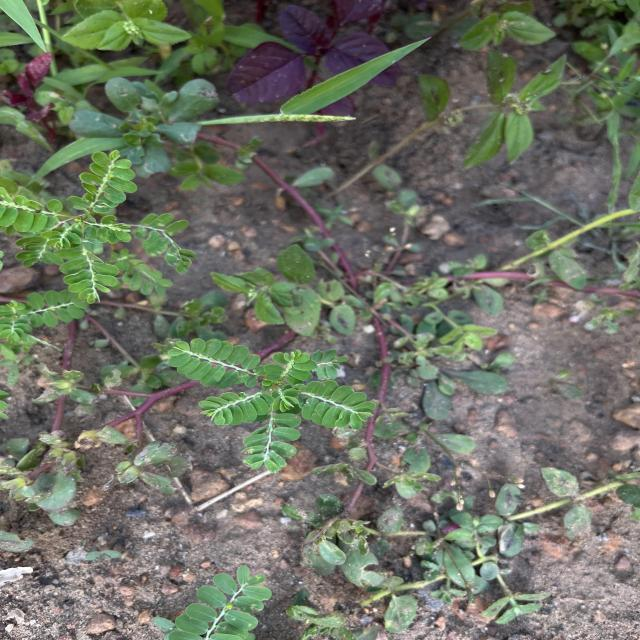Phyllanthus niruri: (166, 336, 264, 389), (68, 148, 140, 215), (289, 378, 378, 432), (240, 403, 304, 476), (54, 240, 120, 306), (195, 390, 274, 427), (262, 346, 320, 386)
